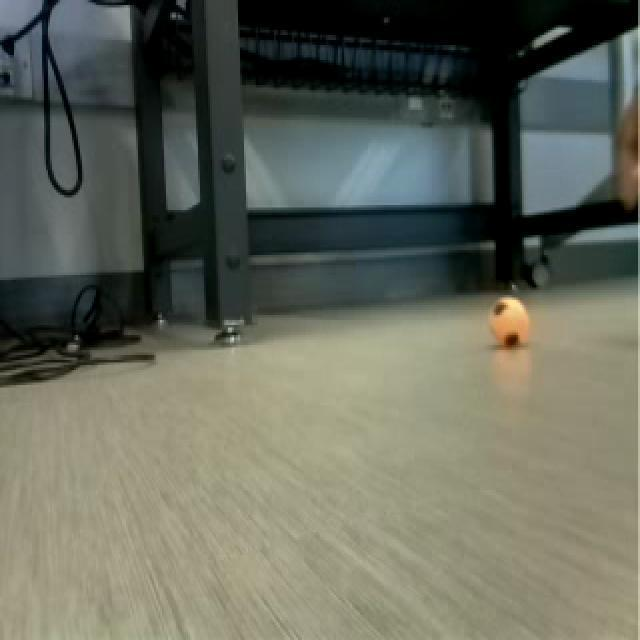ping-pong-ball: (487, 293, 532, 355)
